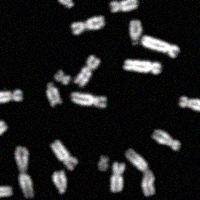chromosome: (125, 149, 157, 197), (50, 137, 79, 172), (16, 146, 34, 200), (73, 54, 100, 87), (140, 35, 180, 57), (71, 13, 105, 36), (151, 126, 181, 151), (123, 57, 161, 75), (71, 90, 106, 107), (110, 163, 126, 193), (45, 79, 62, 107), (0, 87, 22, 105), (177, 95, 200, 112), (129, 19, 143, 46), (109, 0, 138, 13), (52, 172, 65, 195), (54, 69, 71, 84), (97, 153, 109, 173), (0, 184, 12, 200), (54, 0, 74, 9), (0, 118, 8, 139)
